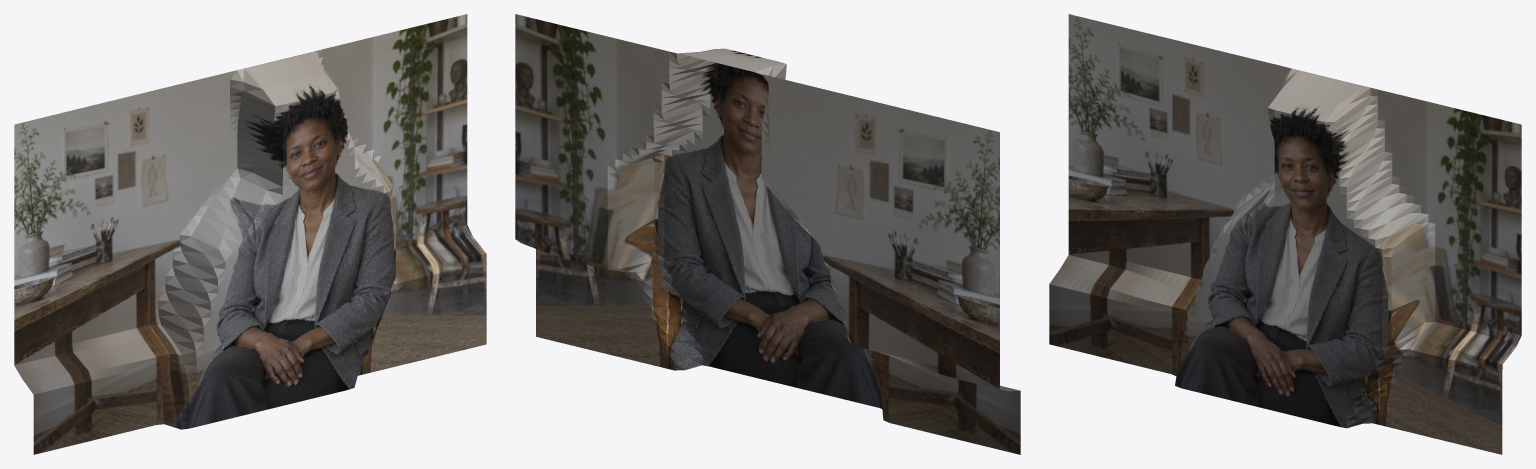
Rendered from source_relief.obj.
3 renders of one model, left to right at view 1: azimuth 30°, elevation 25°; view 2: azimuth 150°, elevation 25°; view 3: azimuth 330°, elevation 25°, orthographic. The views are drawn at different scales.
Visible parts, largest first — view 1: photo_relief; view 2: photo_relief; view 3: photo_relief.
Boxes of the visible parts, x1=… form: photo_relief: x1=14, y1=14, x2=486, y2=454; photo_relief: x1=515, y1=14, x2=1020, y2=454; photo_relief: x1=1049, y1=14, x2=1521, y2=454.
Size of the model in its own units: 1.5 by 1 by 0.18.
Materials: 1 (1 with a texture image).
